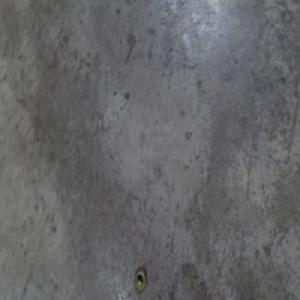Nut: (134, 266, 146, 292)
